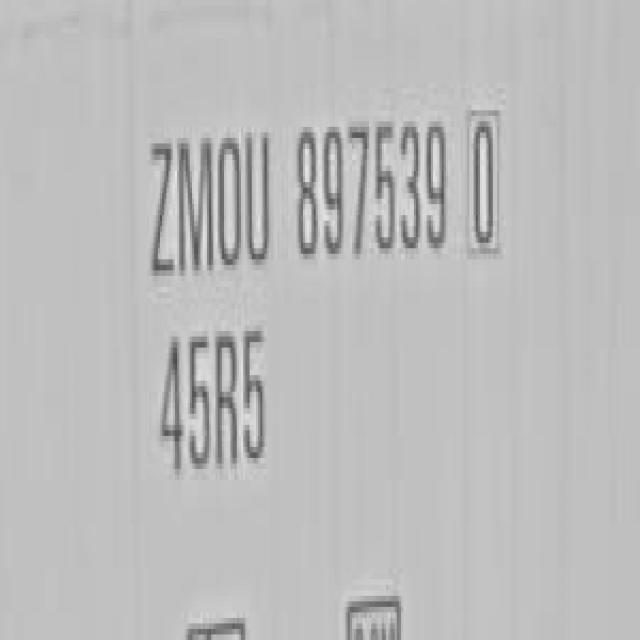dv: (460, 97, 513, 278)
owner: (143, 94, 275, 298)
serial: (287, 73, 450, 296)
size: (144, 308, 277, 494)
